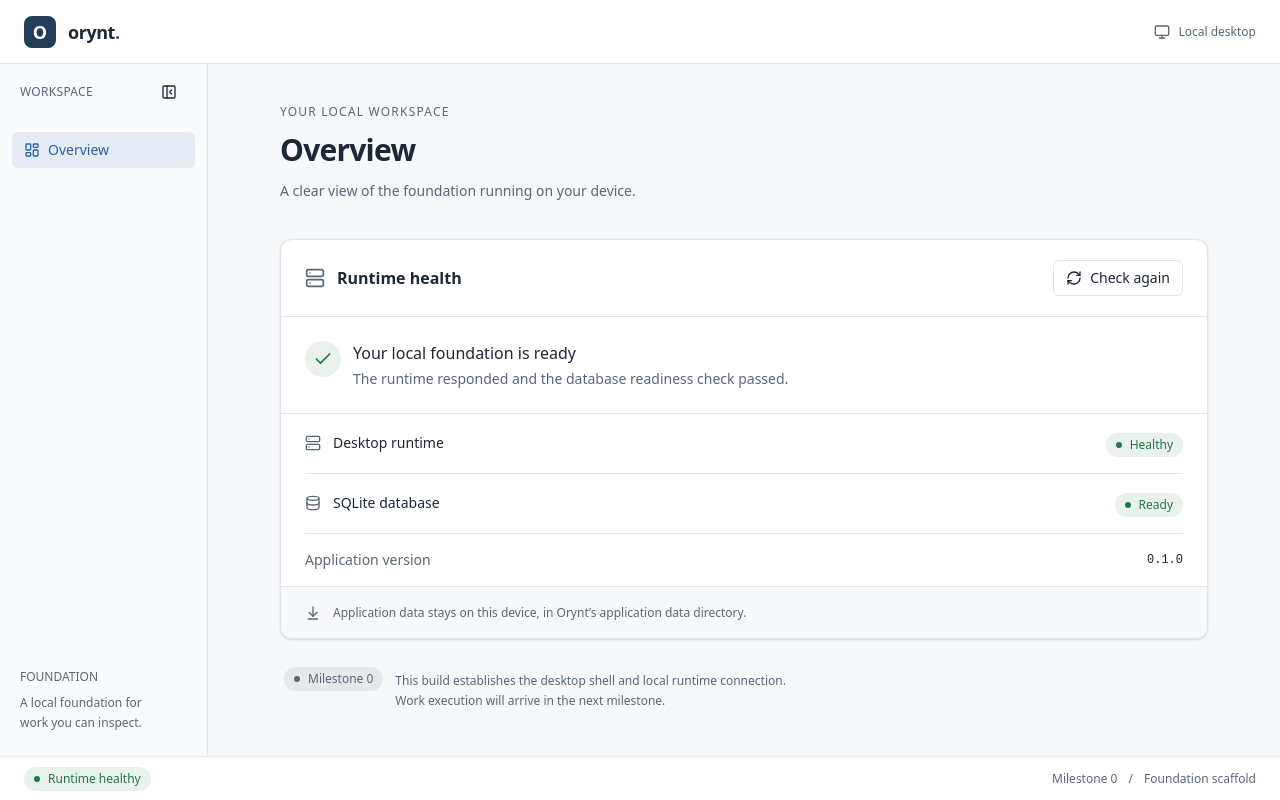
foundation overview › collapses and expands navigation without changing runtime health
Check: the heading "Your local foundation is ready" is shown, box [353,342,576,364]
What coordinates should you click on to do the following:
click the button named "Collapse sidebar"
I would click on:
 (169, 92)
Its box is [151,74,187,110].
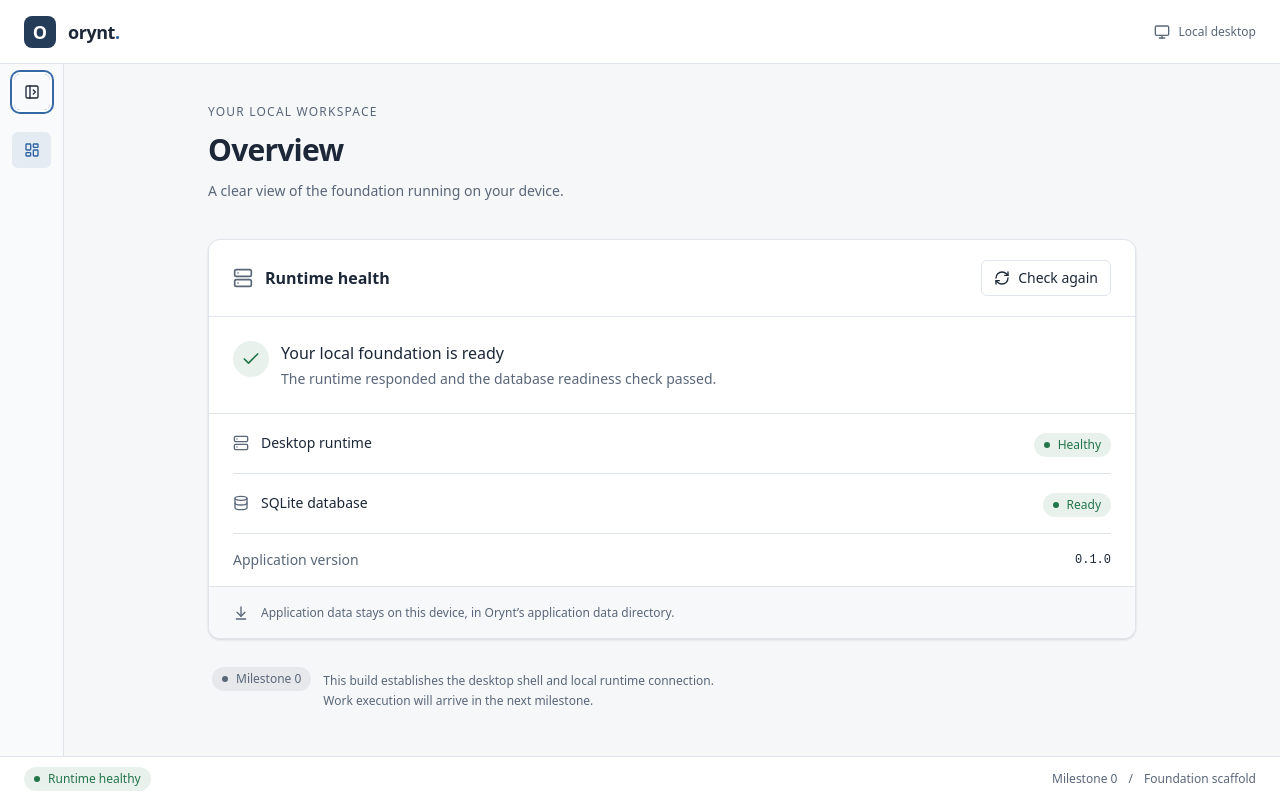
Check: the link named "Overview" is shown, box [12,132,51,168]
Check: the button named "Expand sidebar" is collapsed
What coordinates should you click on to do the following:
click the button named "Expand sidebar"
I would click on:
 (32, 92)
Its box is [14,74,50,110].
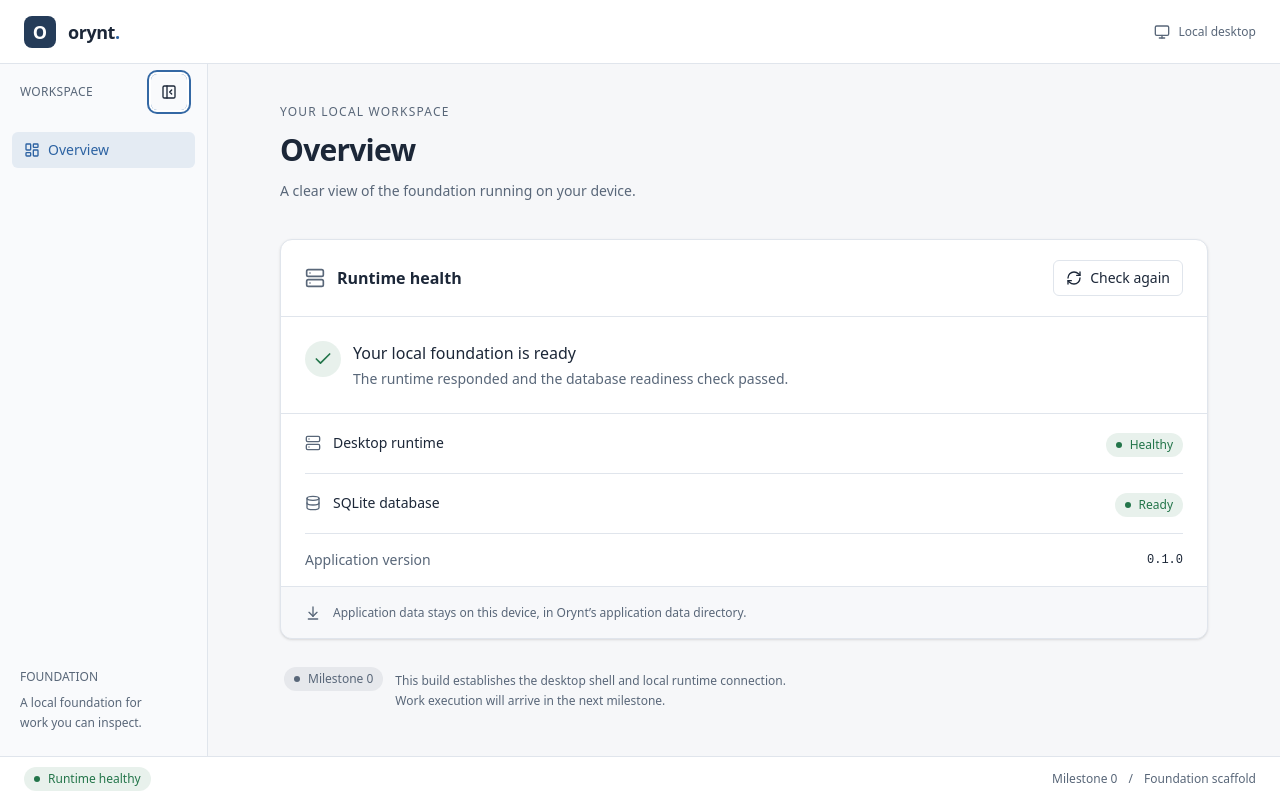
Check: the heading "Your local foundation is ready" is shown, box [353,342,576,364]
Check: the text "WORKSPACE" is shown, box [20,84,93,100]
